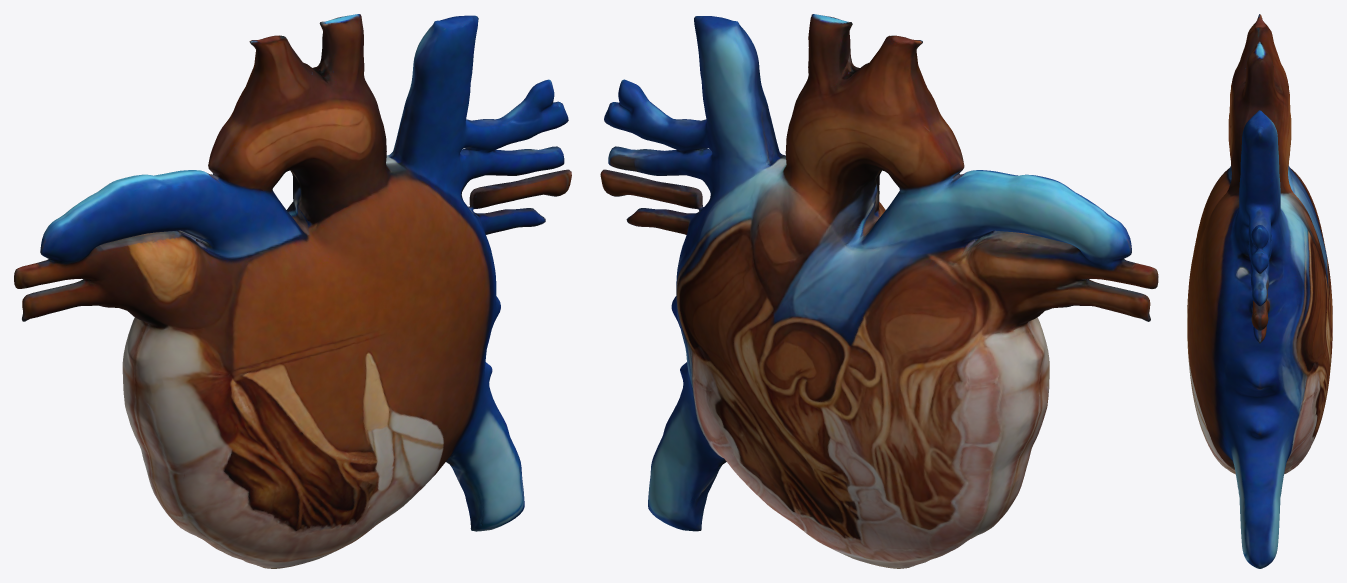
File: heart.glb
3 views of the same model, side by side, from view 1: azimuth 30°, elevation 25°; view 2: azimuth 150°, elevation 25°; view 3: azimuth 270°, elevation 25° (orthographic). The views are drawn at different scales.
Bounding box in the file's own units: 2 × 1.87 × 0.5439.
Materials: 1 (1 with a texture image).
